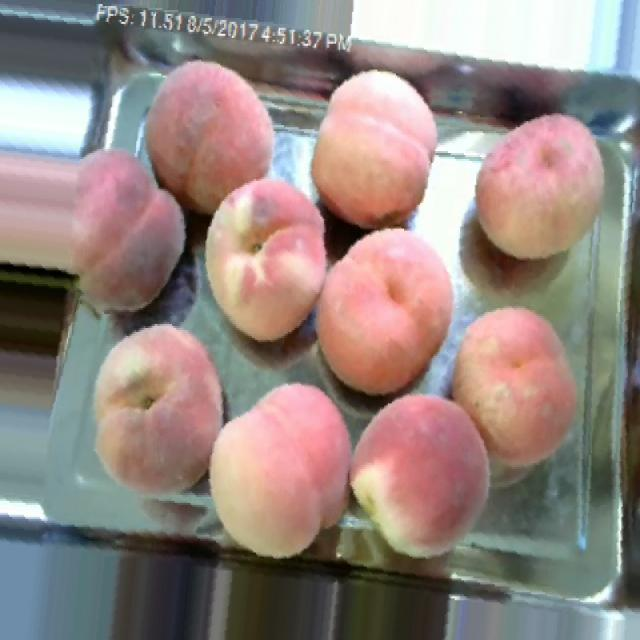Fruit: (1, 131, 203, 324), (72, 306, 247, 513), (195, 366, 369, 570), (298, 215, 466, 408), (341, 384, 503, 568), (190, 165, 338, 358), (129, 48, 287, 228), (463, 98, 621, 272), (441, 294, 591, 477), (302, 58, 449, 236)
